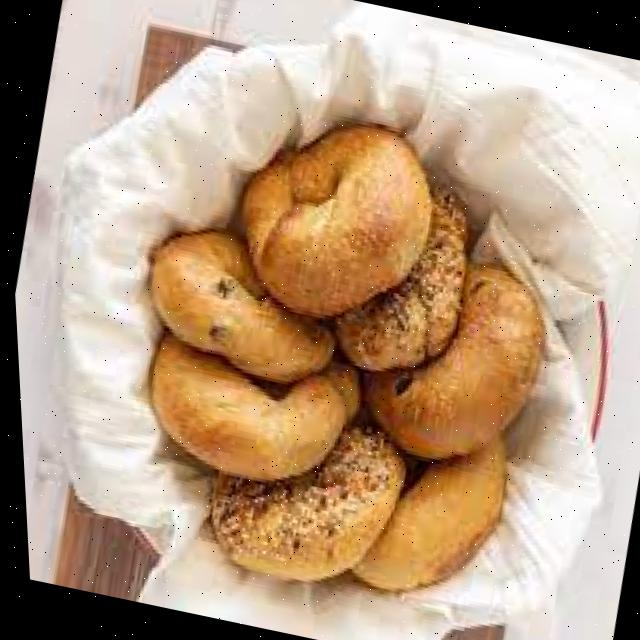Bagel: (238, 124, 429, 316), (359, 263, 540, 453), (205, 426, 398, 579), (146, 334, 342, 480), (147, 233, 327, 382), (331, 197, 463, 370), (346, 438, 495, 591)
